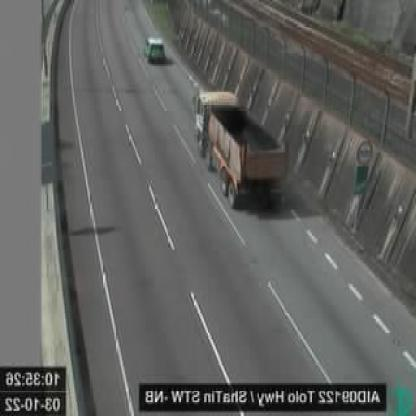Car: (146, 36, 166, 59)
Truck: (195, 86, 283, 210)
